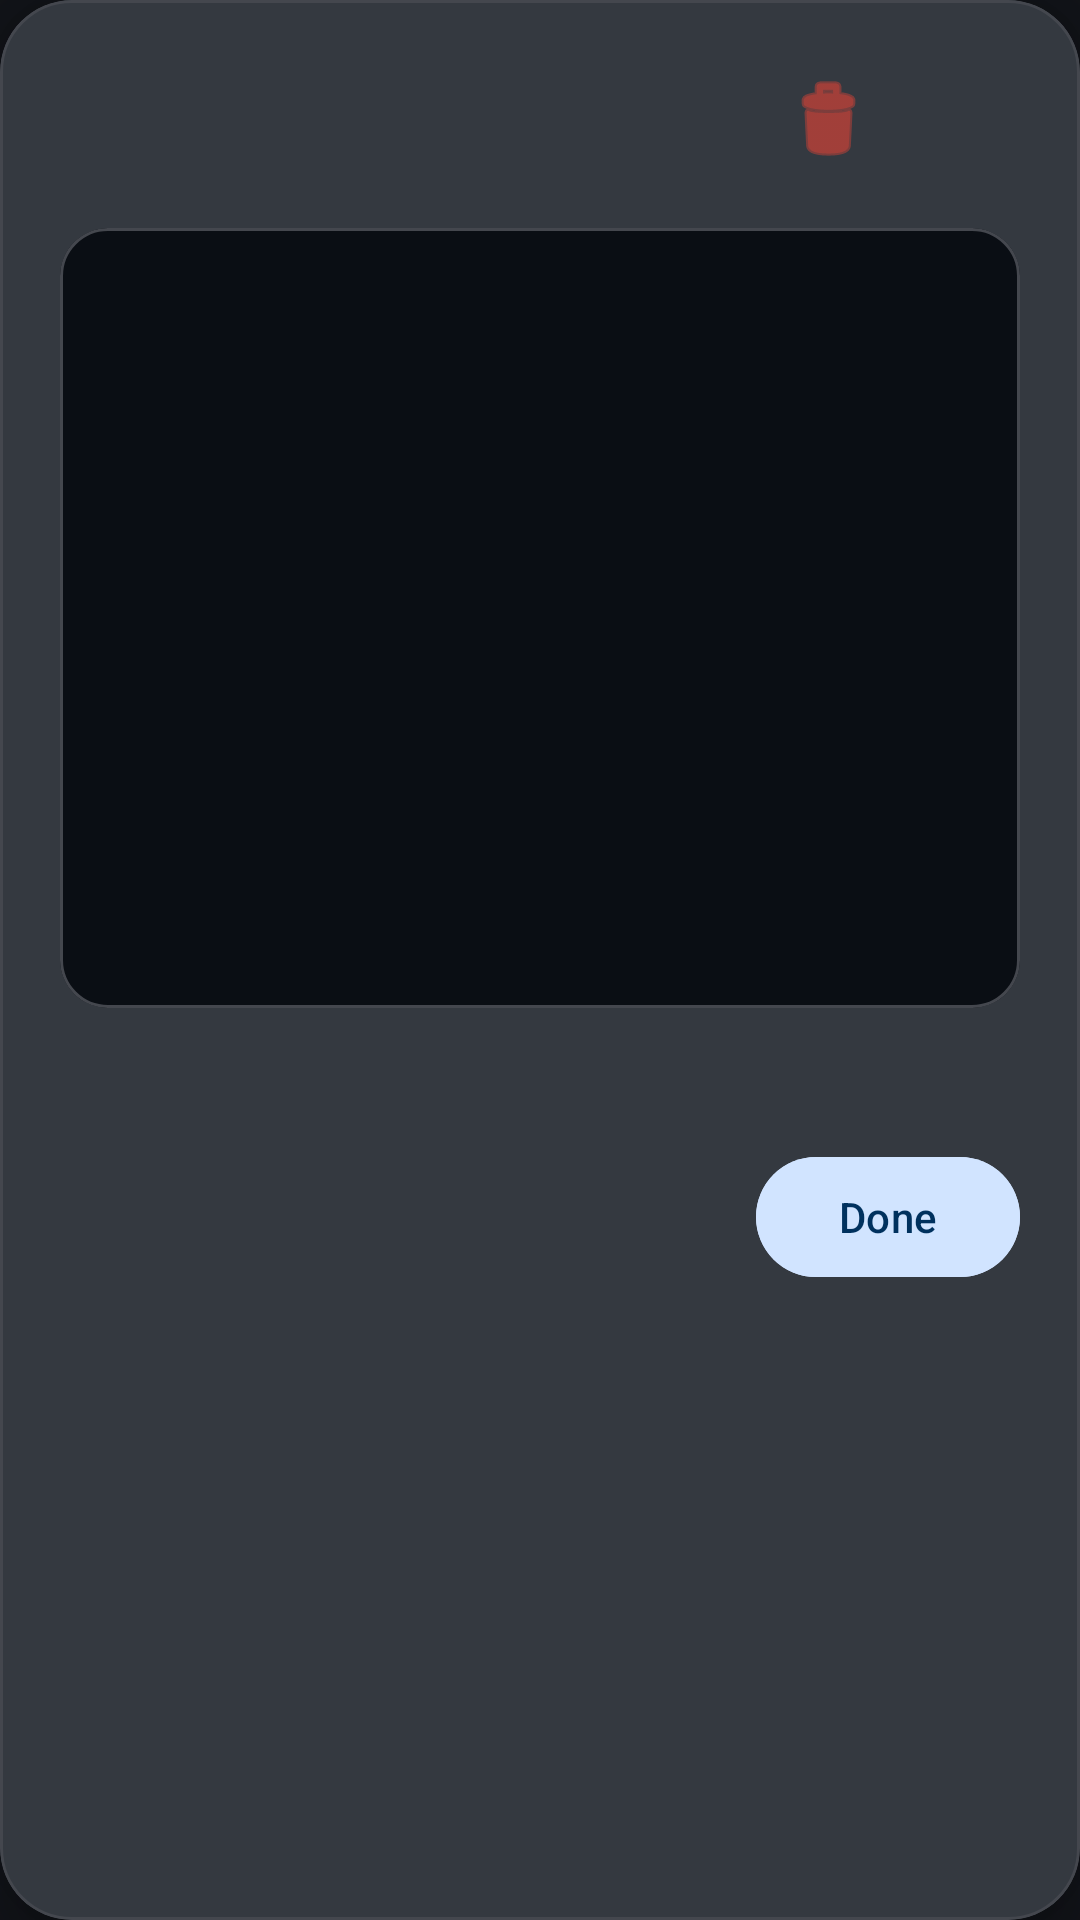

Icons on this 1080 × 1920 Android screen, each with its box as [left=x1, top=y1, right=x2, bottom=y2]:
Delete Photo: [left=801, top=81, right=856, bottom=156]
